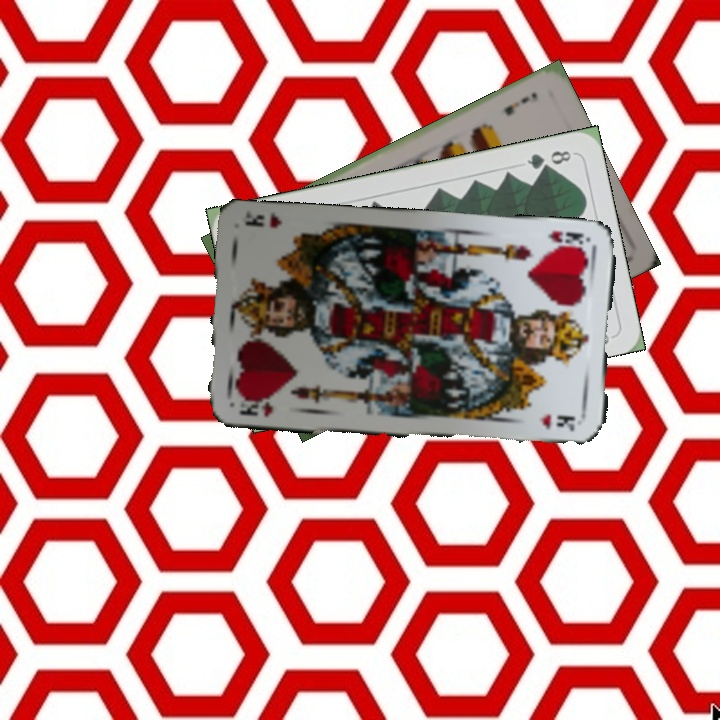E7: (500, 88, 541, 119)
G8: (523, 146, 574, 173)
HK: (544, 226, 590, 253), (233, 393, 276, 419)
